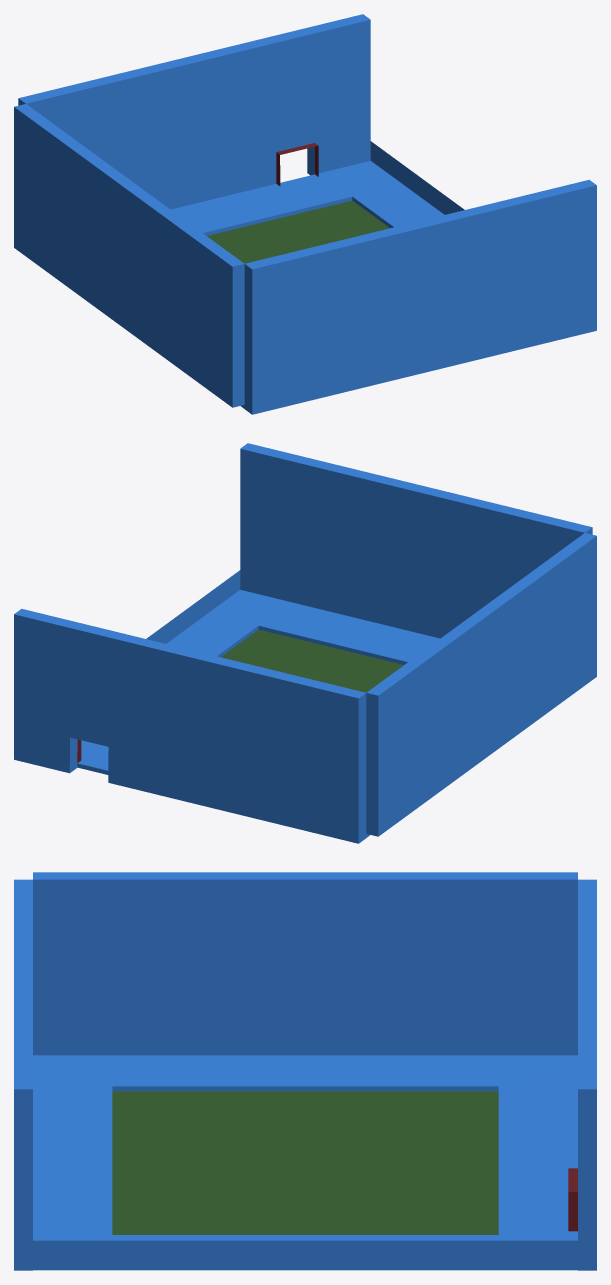
The model's file is map2.fbx.
The picture shows the model from 3 angles, top to bottom: view 1: azimuth 30°, elevation 25°; view 2: azimuth 150°, elevation 25°; view 3: azimuth 270°, elevation 25°; orthographic projection. The views are drawn at different scales.
Parts seen in each view (by area): view 1: Plane; view 2: Plane; view 3: Plane.
Part boxes in pixels (x1,y1,x2,y2): Plane: (14, 14, 596, 414); Plane: (14, 443, 596, 843); Plane: (14, 872, 596, 1270).
Size of the model in its own units: 18062 by 7111 by 20507.
